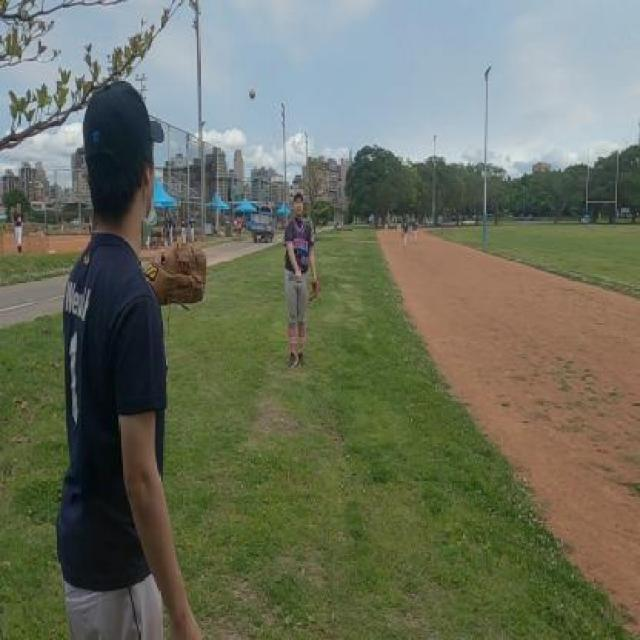baseball: (250, 88, 256, 100)
